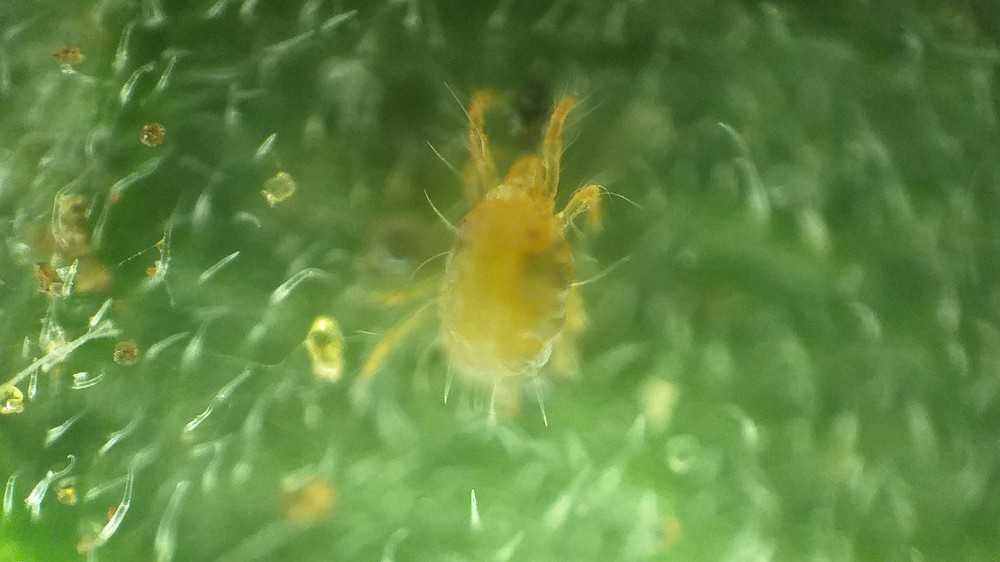Aracnido Rojo: (361, 77, 646, 448)
